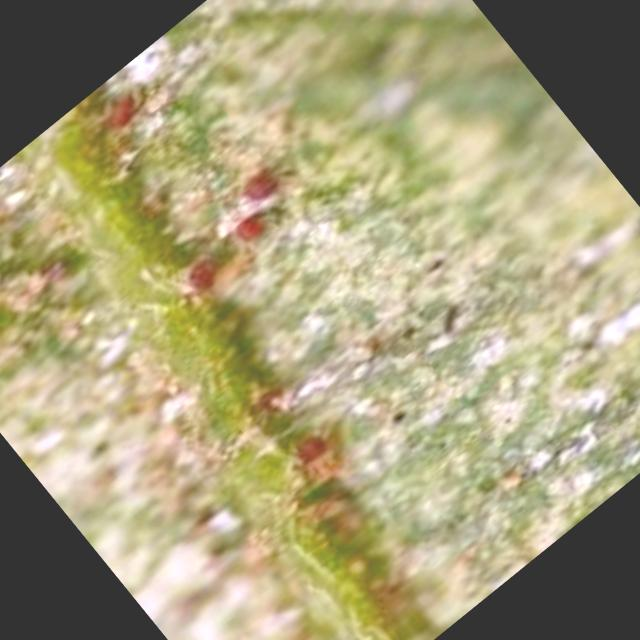spider mite: (149, 214, 270, 338), (230, 348, 334, 448), (278, 406, 362, 489), (75, 80, 156, 160), (221, 186, 299, 266), (232, 138, 307, 216)
